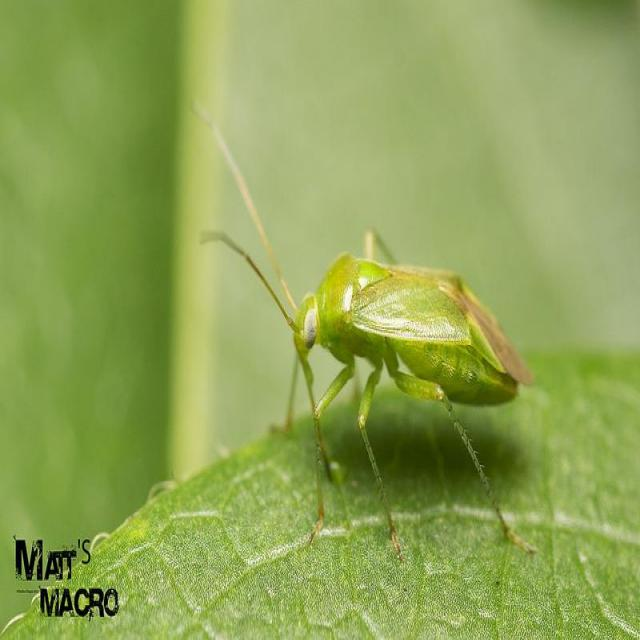Miridae-Adult-: (193, 89, 522, 546)
